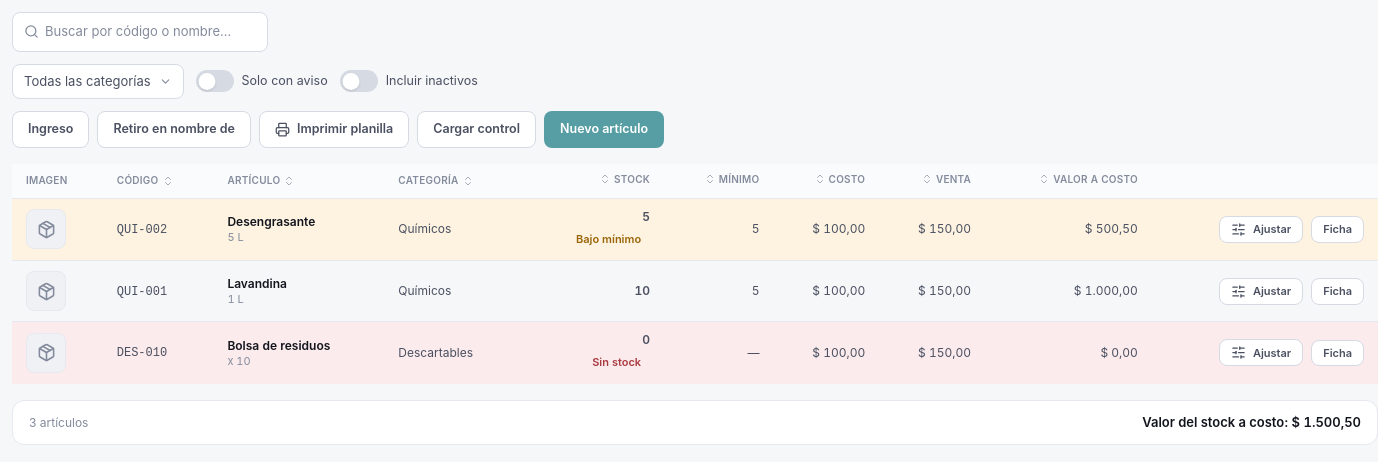
it: StockTab: tabla (IS-05, IS-24) › «Solo con aviso» deja los amarillos y los rojos y recalcula el total
This screenshot has width=1378, height=462.
Click the switch named "Solo con aviso" next to "Solo con aviso" at (215, 81), box [196,70,234,92]
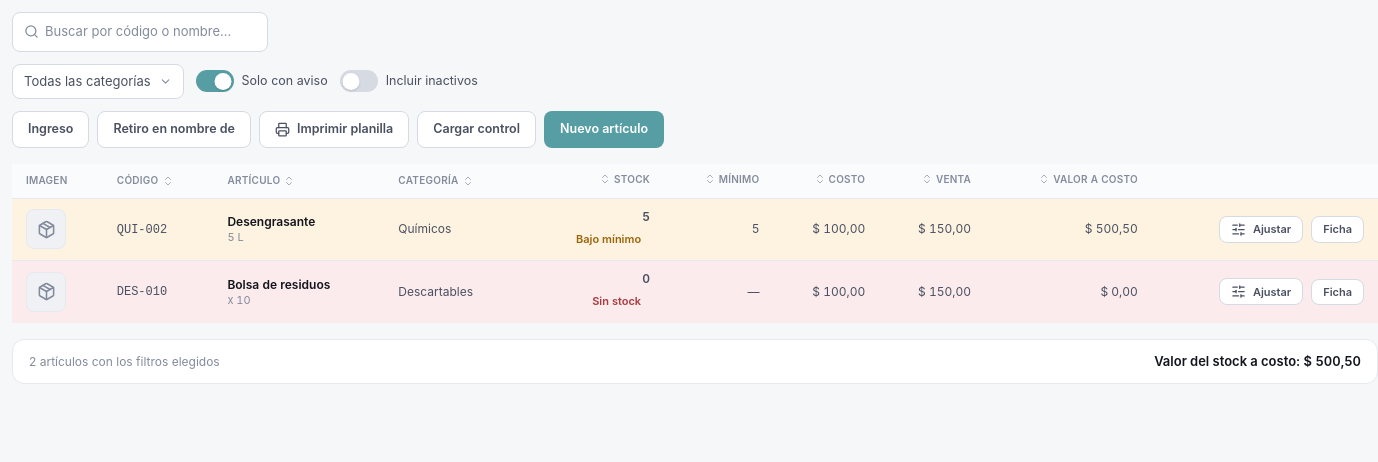
Expected: the text "Desengrasante" is shown, [227,214,315,229]
Now the link "Lavandina" is gone
Now the text with test id "stock-total" reads "$ 500,50", box [1304,353,1361,369]
